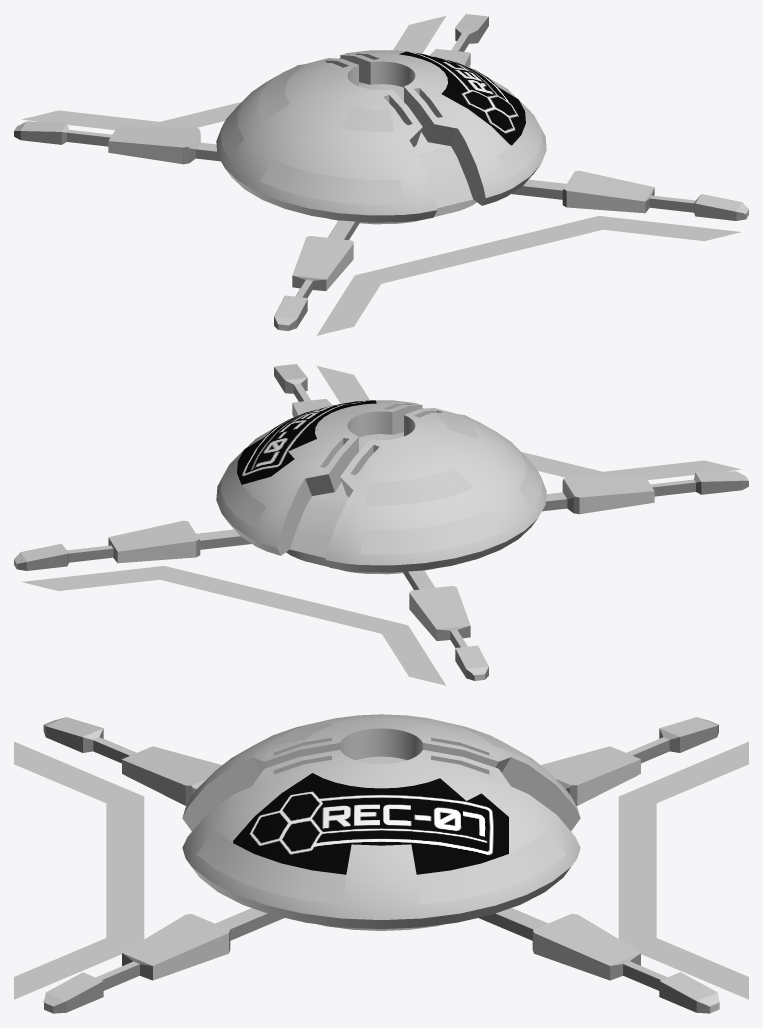
Rendered from Structure_06.fbx.
3 views of the same model, one above another, from view 1: azimuth 30°, elevation 25°; view 2: azimuth 150°, elevation 25°; view 3: azimuth 270°, elevation 25° (orthographic). The views are drawn at different scales.
Visible parts, largest first — view 1: Structure_06, Structure_06_Decal_Color, Structure_06_Decal_Normal, Structure_06_Emission, Structure_06_Decal_Text; view 2: Structure_06, Structure_06_Decal_Color, Structure_06_Decal_Normal, Structure_06_Emission, Structure_06_Decal_Text; view 3: Structure_06, Structure_06_Decal_Normal, Structure_06_Decal_Color, Structure_06_Decal_Text, Structure_06_Emission.
Boxes of the visible parts, <box> form: Structure_06: <box>14,16,746,330</box>; Structure_06_Decal_Color: <box>17,14,745,325</box>; Structure_06_Decal_Normal: <box>14,14,748,335</box>; Structure_06_Emission: <box>258,66,472,207</box>; Structure_06_Decal_Text: <box>391,50,525,145</box>; Structure_06: <box>14,367,748,680</box>; Structure_06_Decal_Color: <box>14,364,748,675</box>; Structure_06_Decal_Normal: <box>14,364,748,685</box>; Structure_06_Emission: <box>290,414,477,557</box>; Structure_06_Decal_Text: <box>237,400,376,484</box>; Structure_06: <box>44,714,718,1013</box>; Structure_06_Decal_Normal: <box>14,717,748,1013</box>; Structure_06_Decal_Color: <box>43,719,719,1006</box>; Structure_06_Decal_Text: <box>232,773,508,874</box>; Structure_06_Emission: <box>270,715,522,755</box>.
Size of what is drawn, in the model's own units: 21.89 by 4.44 by 23.75.
